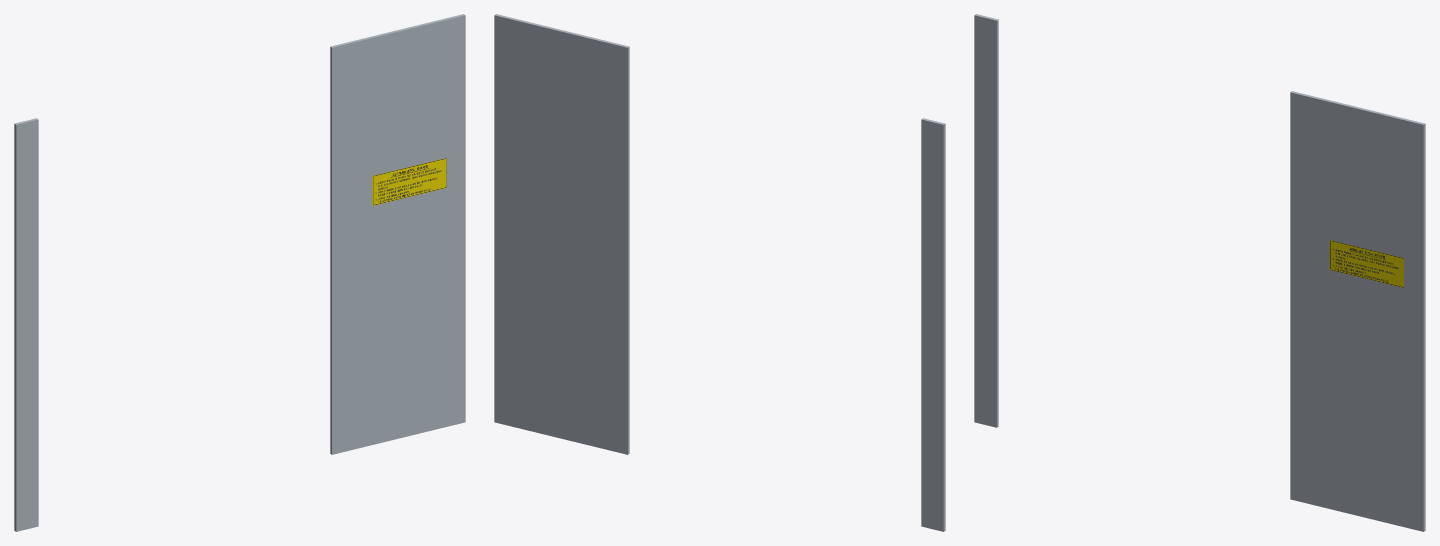
The model's file is TR_INNER_DOOR_BORN.fbx.
3 renders of one model, left to right at view 1: azimuth 30°, elevation 25°; view 2: azimuth 150°, elevation 25°; view 3: azimuth 330°, elevation 25°, orthographic.
Parts seen in each view (by area): view 1: PT_INNER_DOOR_BORN; view 2: PT_INNER_DOOR_BORN; view 3: PT_INNER_DOOR_BORN.
Boxes of the visible parts, box(x1,y1,x2,y2) form: PT_INNER_DOOR_BORN: box(14, 14, 465, 531); PT_INNER_DOOR_BORN: box(494, 14, 945, 531); PT_INNER_DOOR_BORN: box(974, 14, 1425, 531).
Size of the model in its own units: 1.2 by 1.04 by 0.0102.
2 materials, 2 textured.
